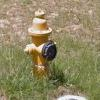Hydrant: (15, 5, 61, 81)
